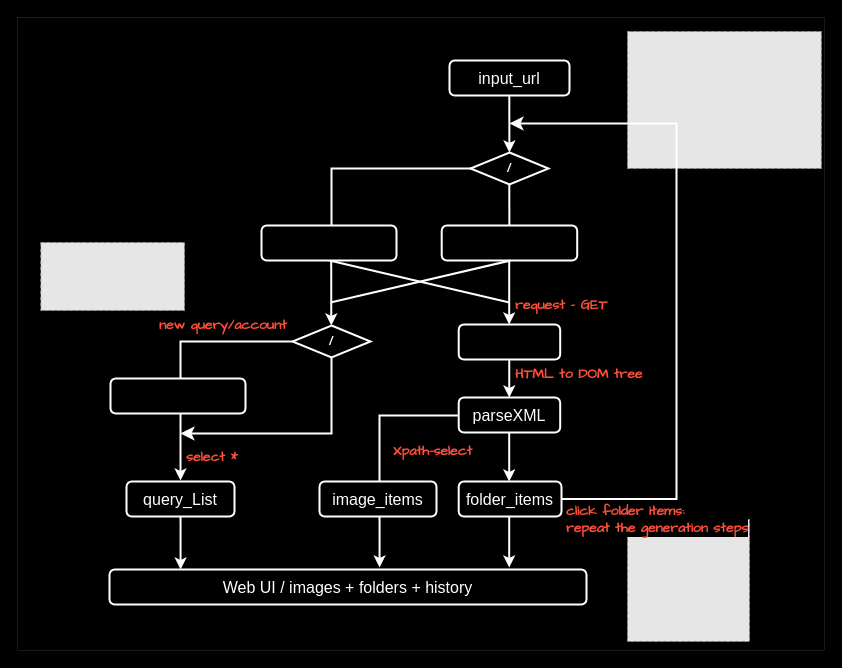
This 842x668 diagram has some shape labels left out. Grey dashed boxes stand in for pictures. Here are the shapes that lost their labels. From the top down, the centre of each, then its label:
At (x=328, y=242): "Gitee_Handler".
At (x=509, y=242): "Github_Handler".
At (x=509, y=341): "response".
At (x=177, y=395): "update_Sqlite".
